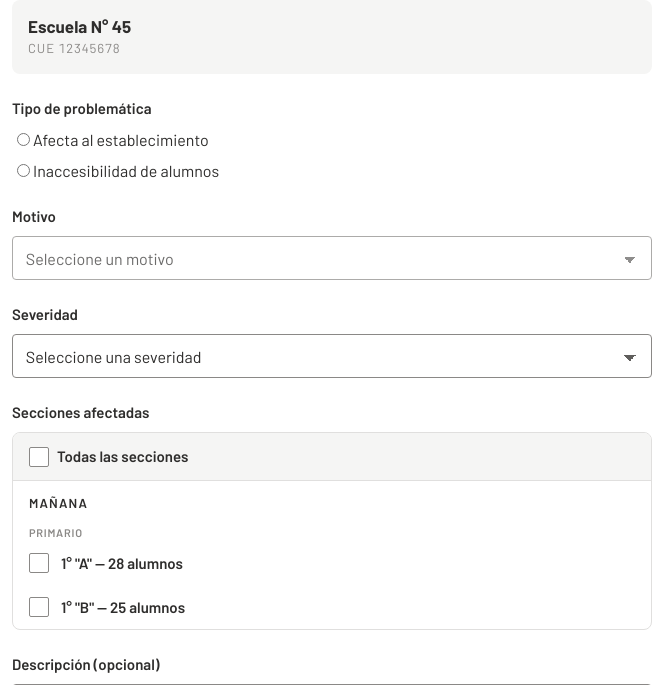
Test: FormularioProblematica › el motivo está deshabilitado hasta elegir un tipo, y sólo ofrece los motivos de ese tipo
expect the dropdown labelled "Motivo" is disabled: met, box top-left (12, 236), bottom-right (652, 280)
Click the radio button labelled "Afecta al establecimiento" at (24,139), box top-left (17, 133), bottom-right (30, 146)
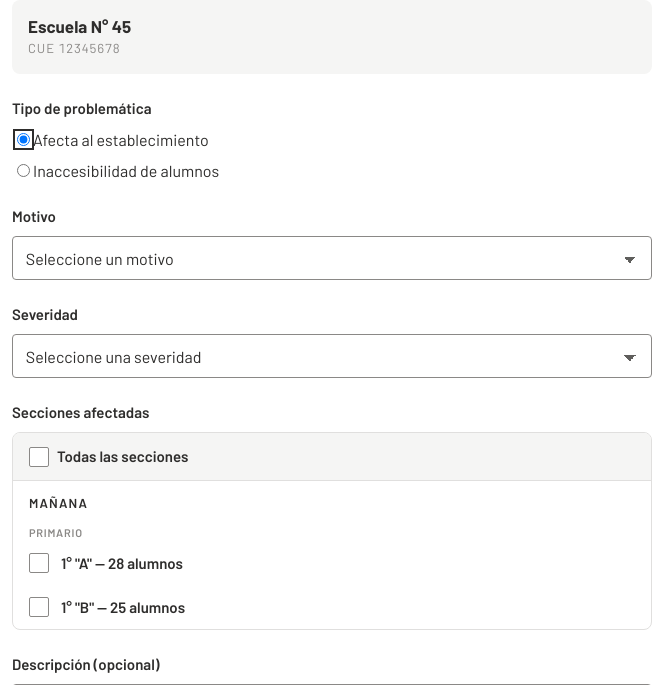
expect the dropdown labelled "Motivo" is enabled: met, box top-left (12, 236), bottom-right (652, 280)
